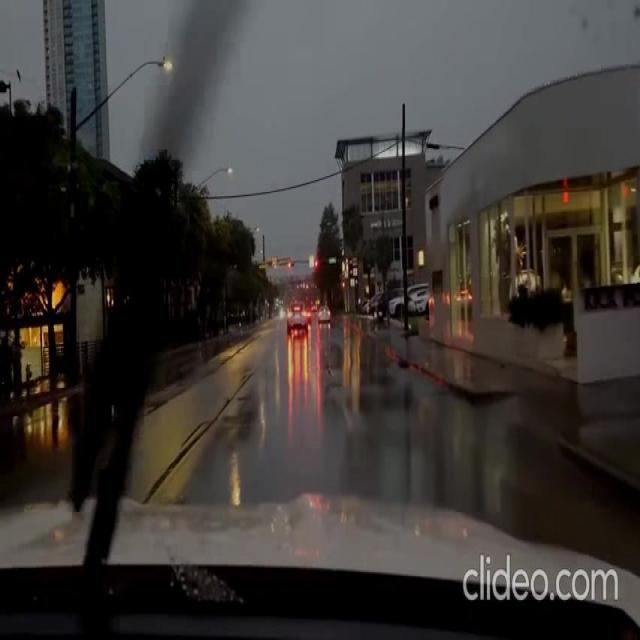Car: (285, 301, 307, 329), (317, 303, 330, 321)
